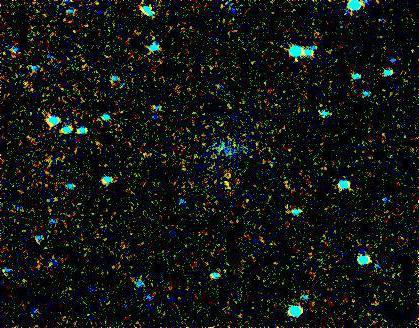star: (222, 165, 252, 195)
